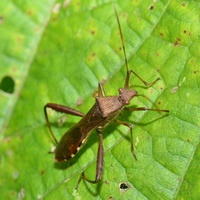insect: (104, 150, 138, 194), (55, 118, 87, 160), (126, 1, 158, 39)
